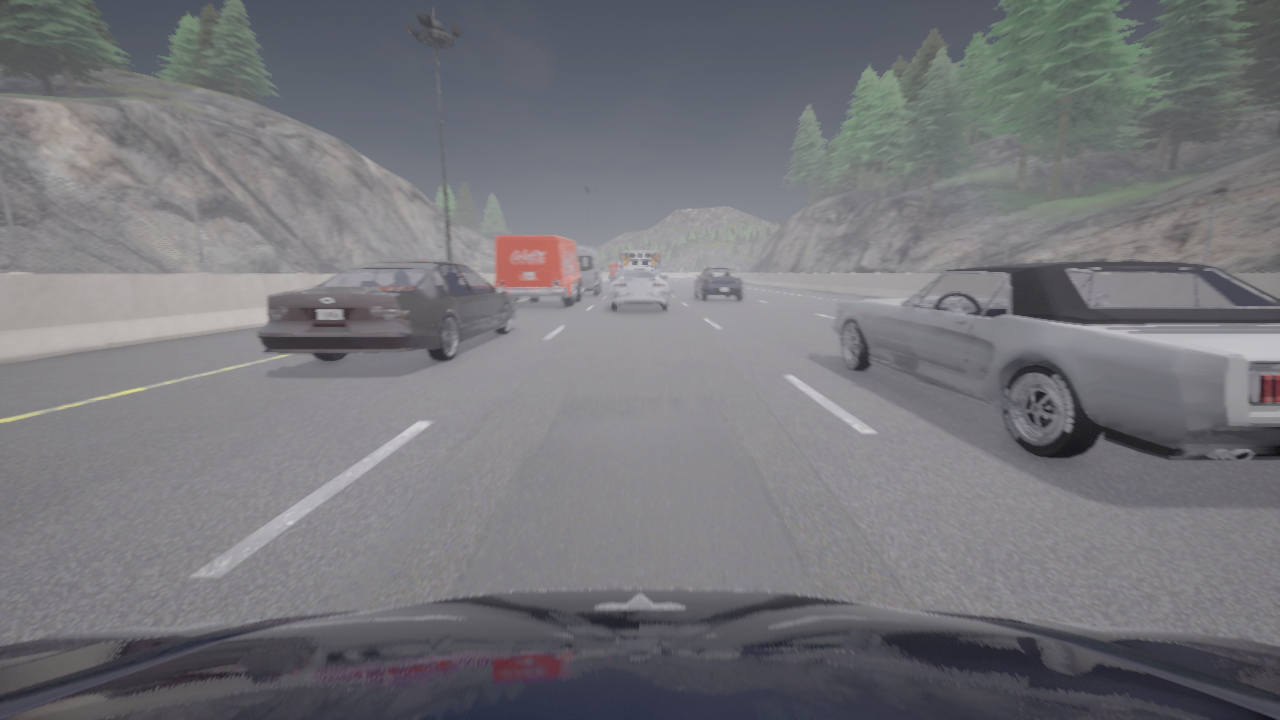cyclist: (0, 588, 1279, 719), (831, 260, 1279, 460), (257, 260, 517, 361), (495, 235, 587, 306), (607, 265, 673, 310), (693, 267, 742, 300), (576, 246, 603, 295), (620, 251, 659, 272), (608, 263, 619, 281)
